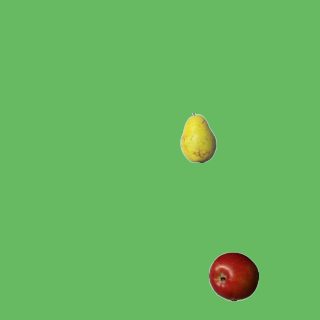Apple Braeburn: (208, 251, 258, 301)
Pear Monster: (173, 112, 223, 162)
